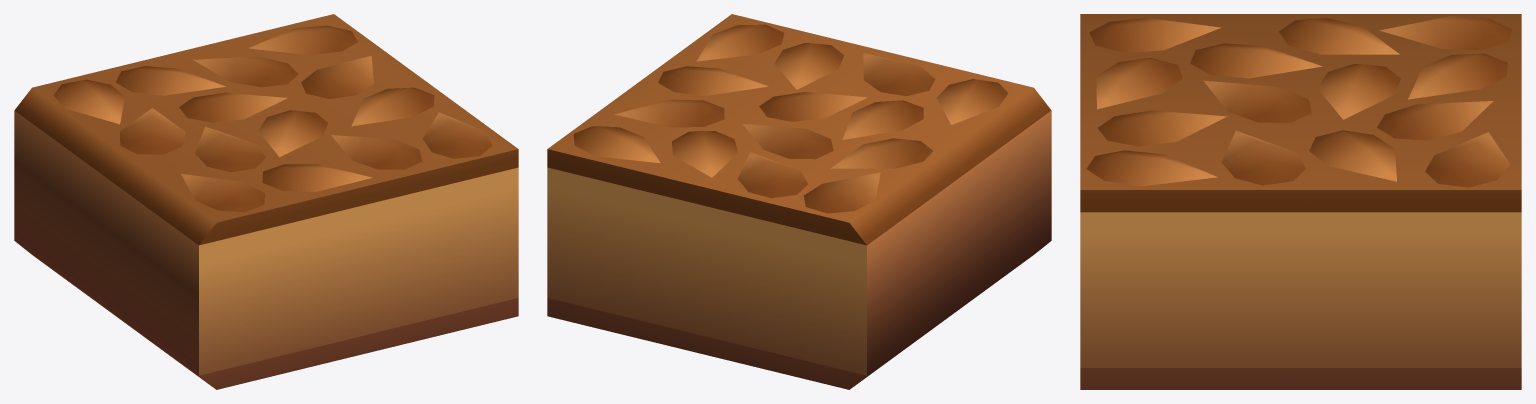
Rendered from m_Bienenstich01_Slice02.fbx.
3 renders of one model, left to right at view 1: azimuth 30°, elevation 25°; view 2: azimuth 150°, elevation 25°; view 3: azimuth 270°, elevation 25°, orthographic. The views are drawn at different scales.
Parts seen in each view (by area): view 1: m_Bienenstich01_Slice02; view 2: m_Bienenstich01_Slice02; view 3: m_Bienenstich01_Slice02.
Boxes of the visible parts, x1=… form: m_Bienenstich01_Slice02: x1=14, y1=14, x2=518, y2=389; m_Bienenstich01_Slice02: x1=547, y1=14, x2=1051, y2=389; m_Bienenstich01_Slice02: x1=1080, y1=14, x2=1521, y2=389.
Bounding box in the file's own units: 10 × 5.3 × 10.
